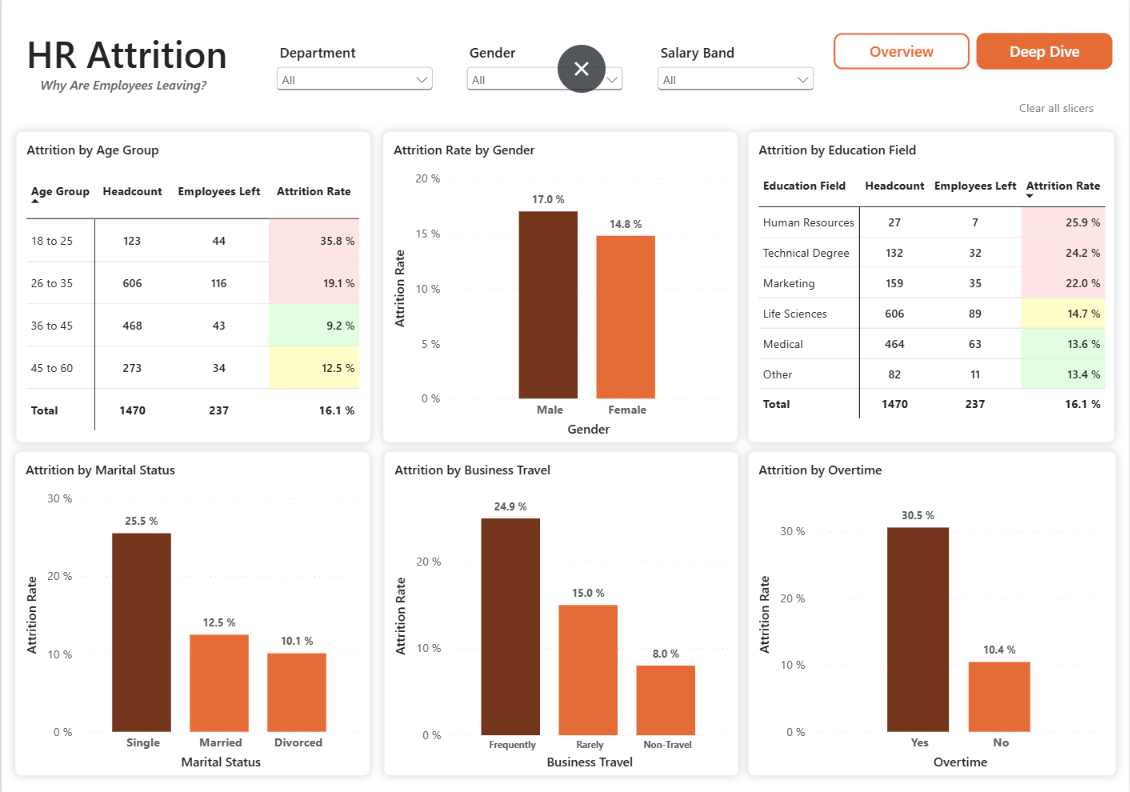

This screenshot's page, from the dashboard's own definition file:
{"tool":"powerbi","page":{"name":"Deep Dive","canvas":[1300,914],"ordinal":1},"visuals":[{"type":"textbox","box":[22.9,32.3,242.8,75.4],"z":0,"group":"g1"},{"type":"group","id":"g1","title":"Group 1","box":[22.9,32.3,242.8,81],"z":0},{"type":"slicer","fields":{"Values":["hr_employees.Department"]},"box":[312.5,48.5,190,81.2],"z":1000},{"type":"textbox","box":[40.8,87.7,197.6,25.6],"z":1000,"group":"g1"},{"type":"slicer","fields":{"Values":["hr_employees.Salary Band"]},"box":[752.5,48.5,190,81.2],"z":2000},{"type":"slicer","fields":{"Values":["hr_employees.Gender"]},"box":[532.5,48.5,190,81.2],"z":3000},{"type":"actionButton","box":[1134.1,108.6,165.9,31.7],"z":4000},{"type":"pivotTable","title":"Attrition by Job Role","fields":{"Rows":["hr_employees.Age Group"],"Values":["hr_employees.Total Headcount","hr_employees.Employees Left","hr_employees.Attrition Rate"]},"box":[15.7,151.4,410,360],"z":5000},{"type":"pivotTable","title":"Attrition by Job Role","fields":{"Rows":["hr_employees.EducationField"],"Values":["hr_employees.Total Headcount","hr_employees.Employees Left","hr_employees.Attrition Rate"]},"box":[861.4,151.4,424.3,360],"z":6000},{"type":"columnChart","fields":{"Category":["hr_employees.Gender"],"Y":["hr_employees.Attrition Rate"]},"box":[440,151.4,410,360],"z":7000},{"type":"columnChart","title":"Attrition by Marital Status","fields":{"Category":["hr_employees.MaritalStatus"],"Y":["hr_employees.Attrition Rate"]},"box":[15.3,520.7,410.4,375.2],"z":8000},{"type":"columnChart","title":"Attrition by Business Travel","fields":{"Category":["hr_employees.Business Travel"],"Y":["hr_employees.Attrition Rate"]},"box":[441.1,520.7,410.4,375.2],"z":9000},{"type":"columnChart","fields":{"Category":["hr_employees.OverTime"],"Y":["hr_employees.Attrition Rate"]},"box":[860.7,520.7,425.8,375.2],"z":10000},{"type":"pageNavigator","box":[960.1,38.7,322.7,42],"z":11001}]}

Visuals, with their boxes in screenshot pixels (x1, y1, x2, y2), scaled from the page's 1300x914 canvas onto the 1130x792 screenshot:
textbox: bbox=[20, 28, 231, 93]
"Group 1" group: bbox=[20, 28, 231, 98]
slicer - hr_employees.Department: bbox=[272, 42, 437, 112]
textbox: bbox=[35, 76, 207, 98]
slicer - hr_employees.Salary Band: bbox=[654, 42, 819, 112]
slicer - hr_employees.Gender: bbox=[463, 42, 628, 112]
actionButton: bbox=[986, 94, 1129, 122]
"Attrition by Job Role" pivotTable: bbox=[14, 131, 370, 443]
"Attrition by Job Role" pivotTable: bbox=[749, 131, 1118, 443]
columnChart - hr_employees.Gender x hr_employees.Attrition Rate: bbox=[382, 131, 739, 443]
"Attrition by Marital Status" columnChart: bbox=[13, 451, 370, 776]
"Attrition by Business Travel" columnChart: bbox=[383, 451, 740, 776]
columnChart - hr_employees.OverTime x hr_employees.Attrition Rate: bbox=[748, 451, 1118, 776]
pageNavigator: bbox=[835, 34, 1115, 70]
